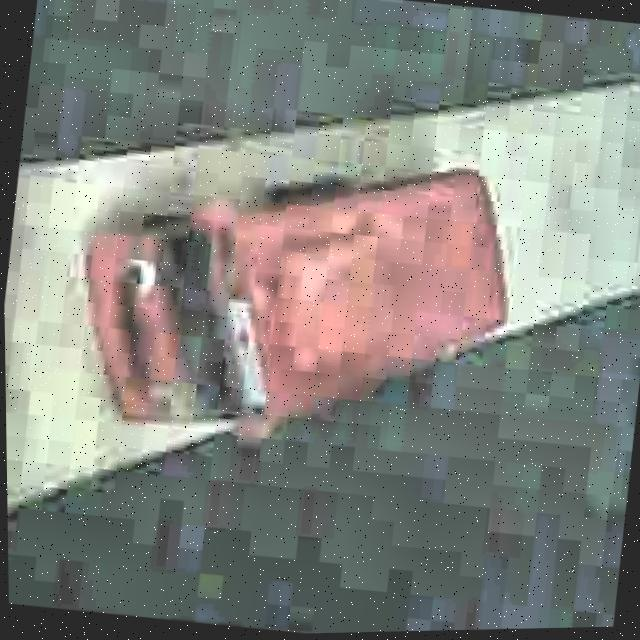bus: (59, 118, 530, 471)
